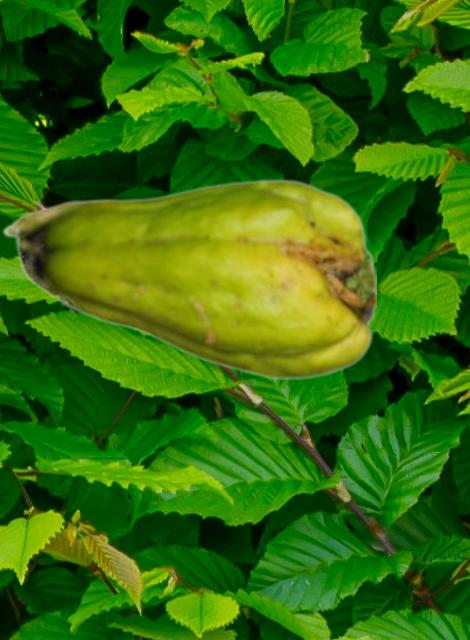sayote: (1, 178, 375, 380)
